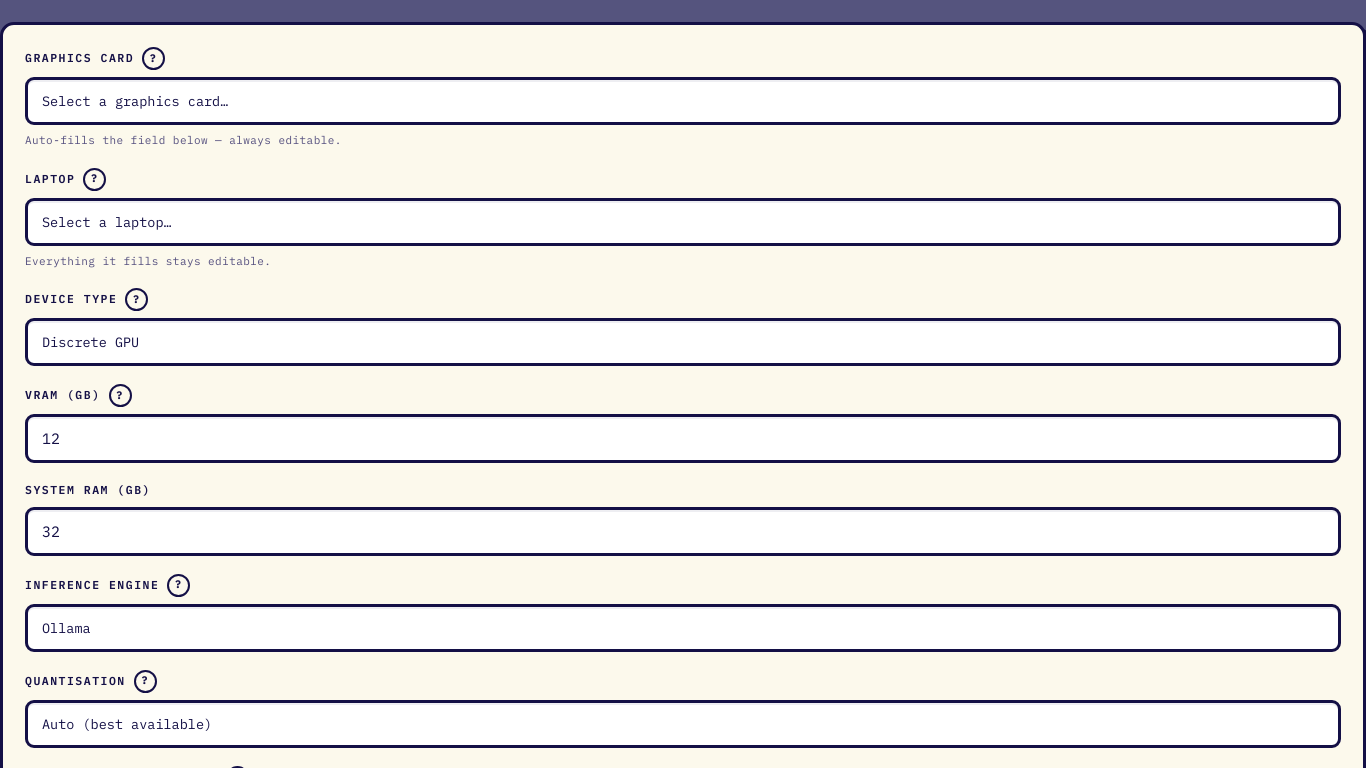
Test: HardwarePanel › falls back to Auto when the chosen quant is not loadable by the new engine
This screenshot has width=1366, height=768.
Select "Q4_K_M" in the dropdown labelled "Quantisation ?" at point(683, 724), box [25,700,1341,748]
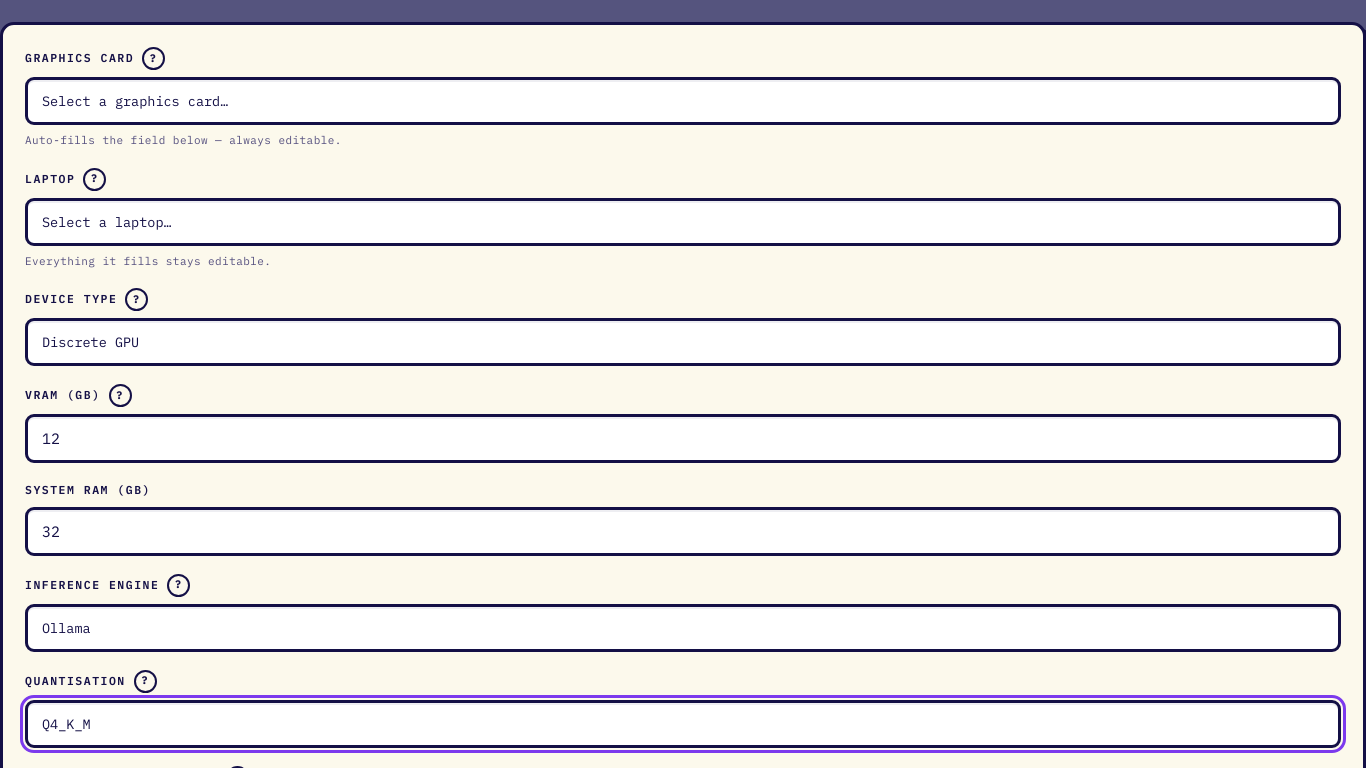
Select "vLLM" in the dropdown labelled "Inference engine ?" at point(683, 628), box [25,604,1341,652]
(page scrolled)
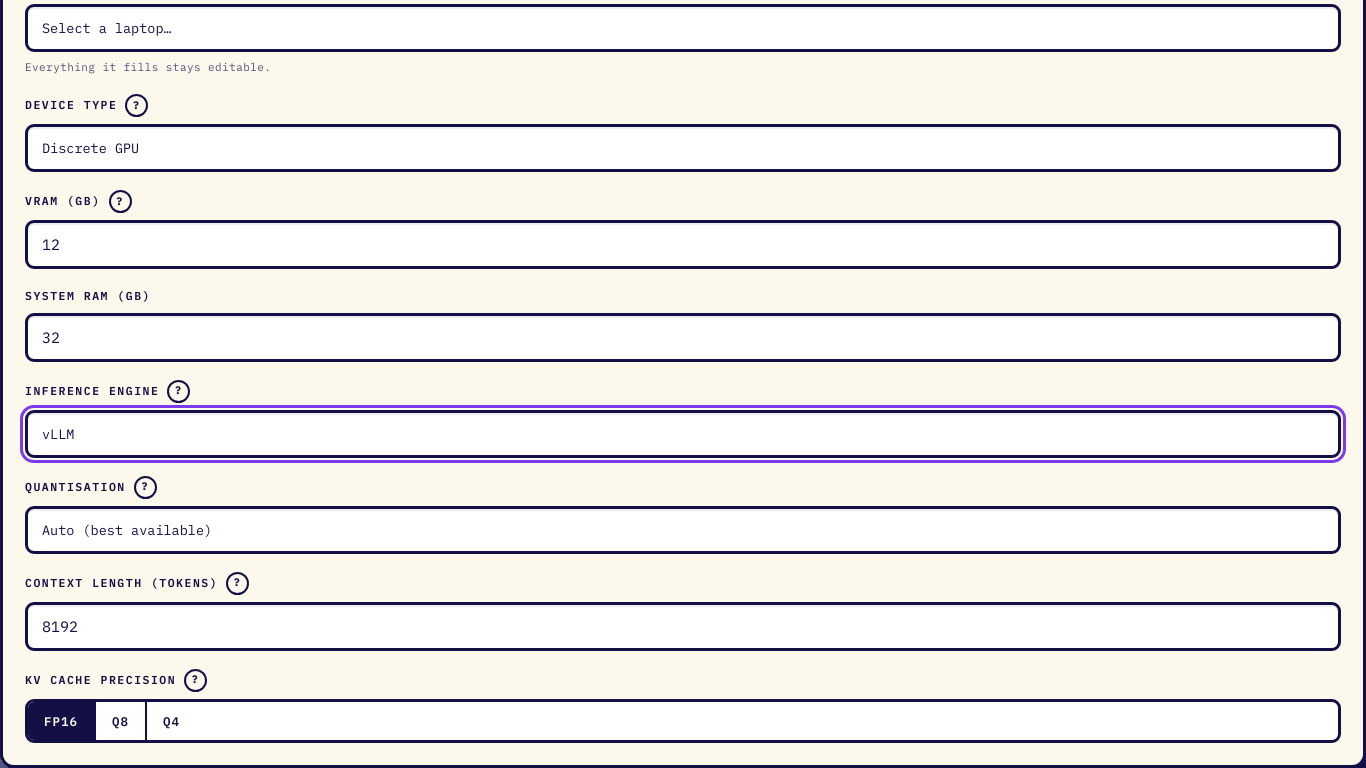
Result: the text with test id "quant" reads "auto" at [128,746,158,765]
